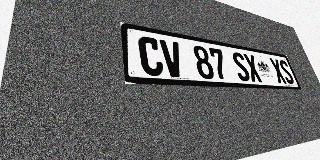7: (207, 47, 230, 80)
8: (192, 45, 215, 79)
C: (137, 35, 165, 76)
S: (230, 51, 252, 82), (278, 59, 295, 84)
V: (159, 39, 185, 78)
X: (242, 53, 263, 82), (269, 58, 287, 84)
